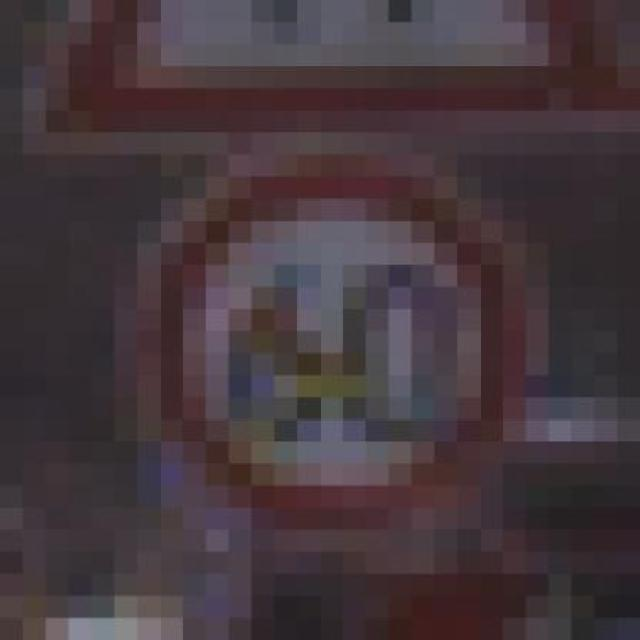forb_speed_over_60: (149, 159, 515, 530)
